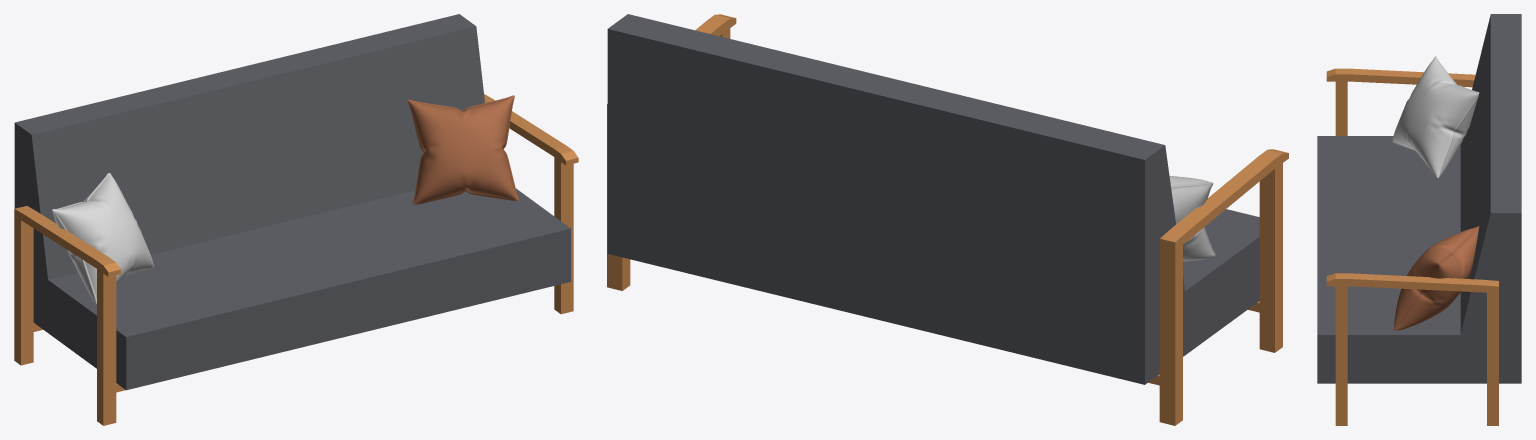
Rendered from Couch.fbx.
The picture shows the model from 3 angles, left to right: view 1: azimuth 30°, elevation 25°; view 2: azimuth 150°, elevation 25°; view 3: azimuth 270°, elevation 25°; orthographic projection. The views are drawn at different scales.
Parts seen in each view (by area): view 1: Couch.001; view 2: Couch.001; view 3: Couch.001.
Part boxes in pixels (bbox=[...]): Couch.001: bbox=[14, 14, 578, 425]; Couch.001: bbox=[607, 14, 1288, 425]; Couch.001: bbox=[1317, 14, 1521, 425].
Bounding box in the file's own units: 1.63 × 0.748 × 0.6688.
